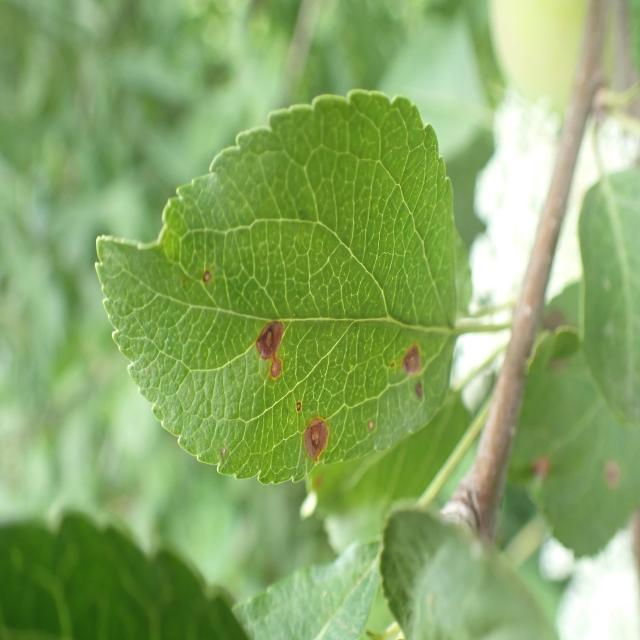Black Rot: (242, 307, 288, 400), (296, 406, 354, 473), (397, 340, 438, 412), (186, 252, 222, 310), (362, 400, 385, 466)
